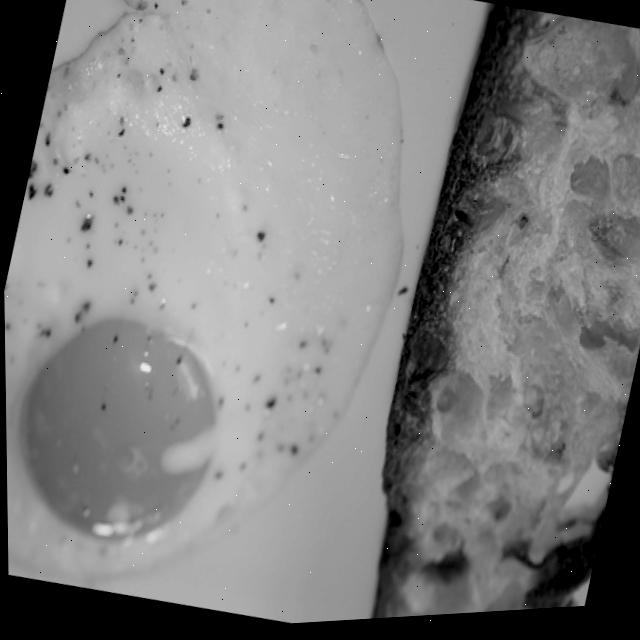鸡蛋料理: (0, 0, 475, 637)
